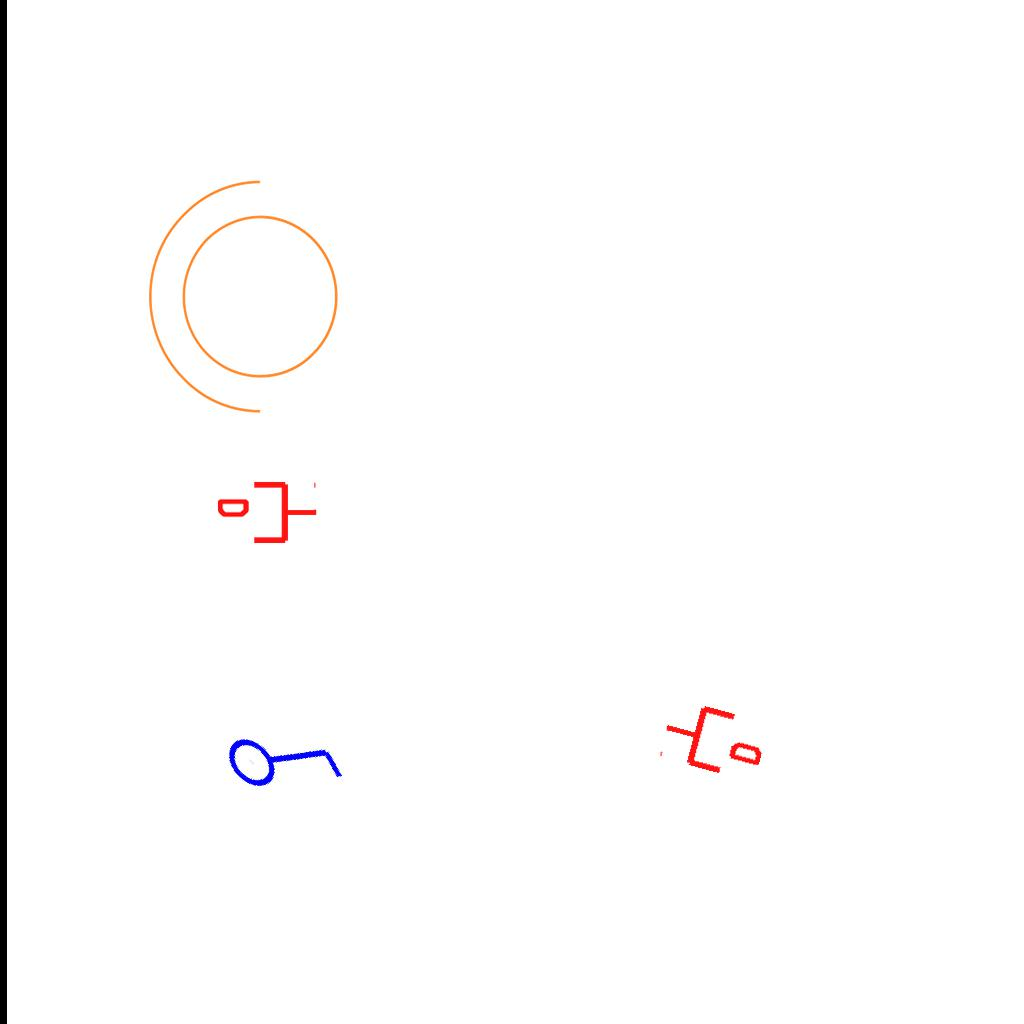Ausschalter: (209, 684, 357, 832)
Datenanschluss_einfach: (656, 693, 771, 787), (218, 478, 318, 547)
Scheinwerfer_fuer_Alarmbeleuchtung: (138, 171, 363, 435)
